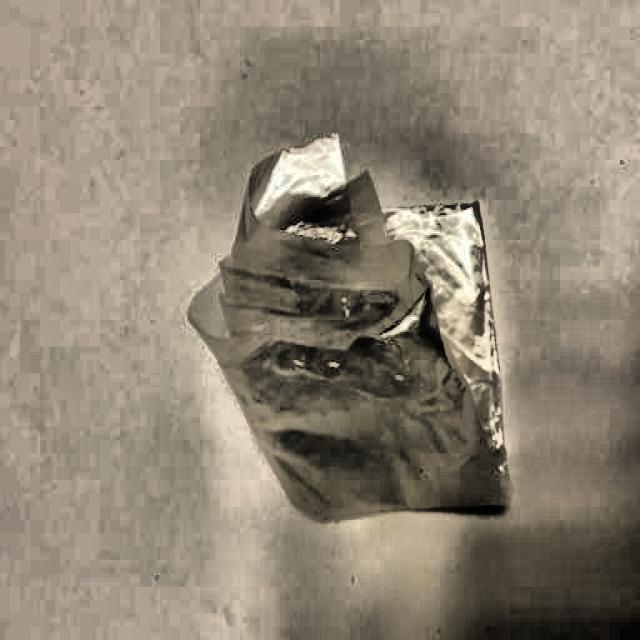trash: (226, 138, 488, 522)
